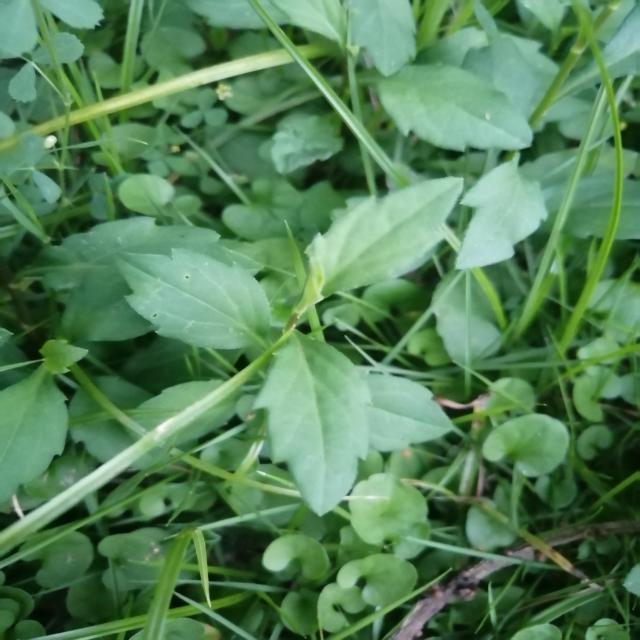Indian aster: (139, 163, 475, 497)
